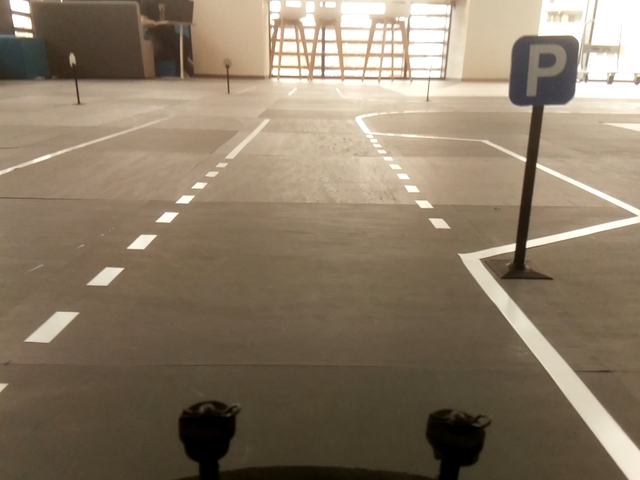parking: (507, 35, 580, 106)
